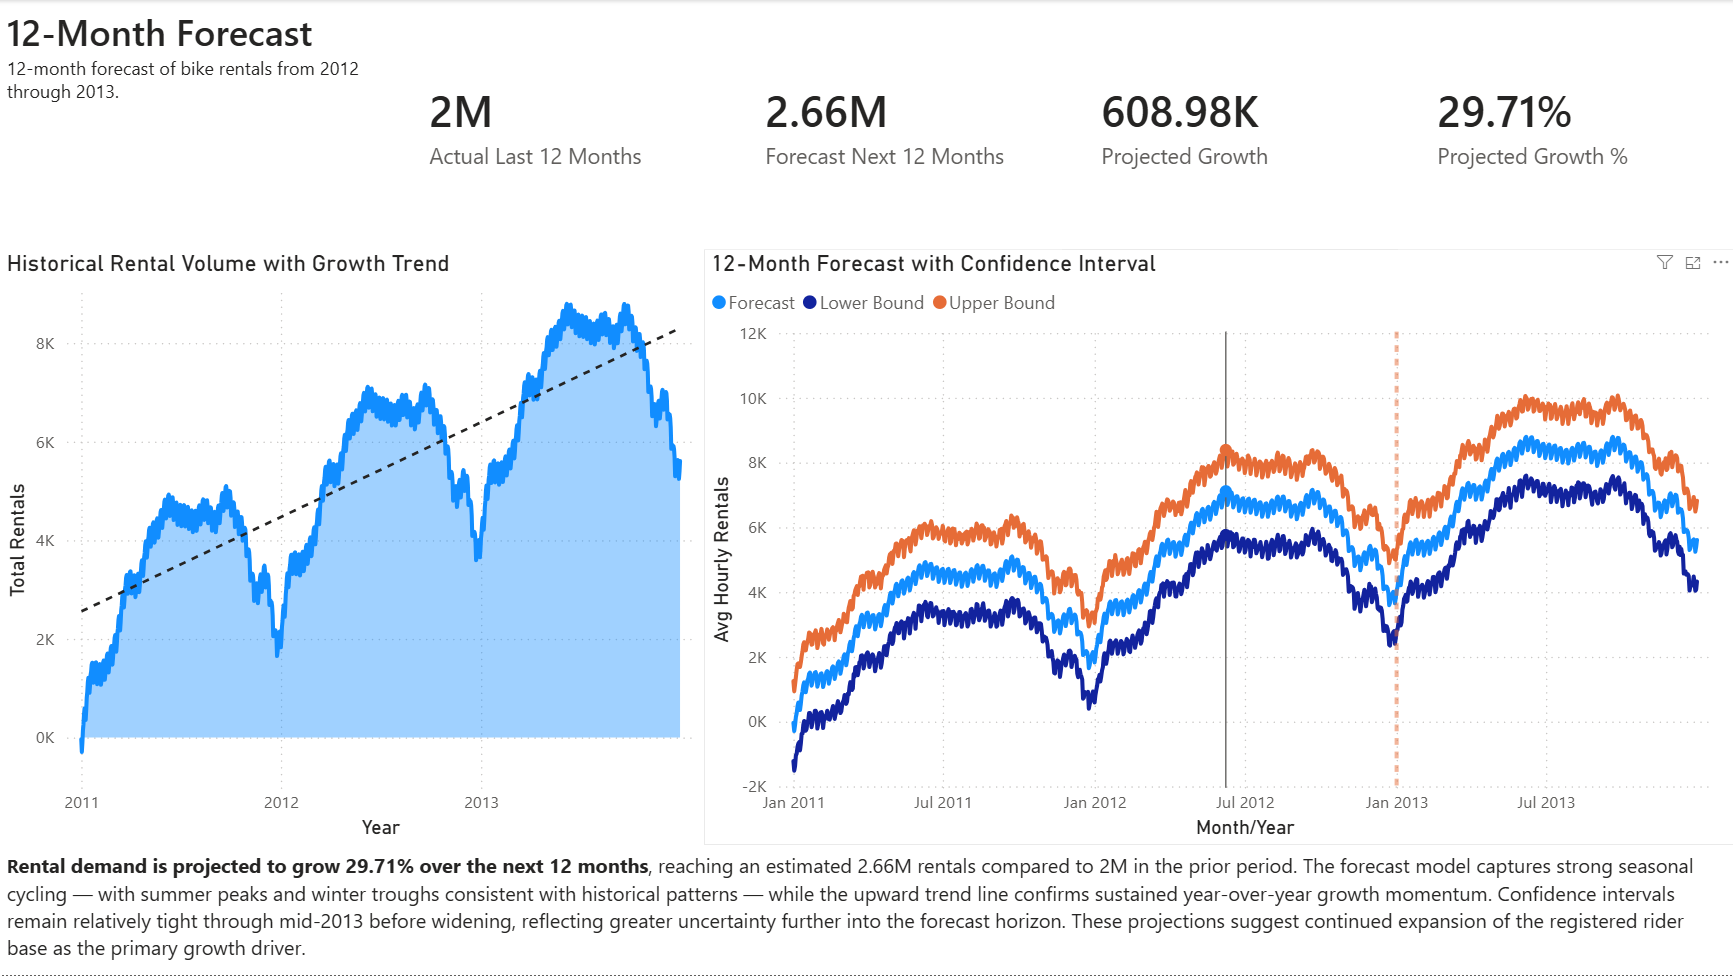

This screenshot's page, from the dashboard's own definition file:
{"tool":"powerbi","page":{"name":"12-Month Forecast","canvas":[1280,720],"ordinal":5},"visuals":[{"type":"lineChart","title":"Historical Rental Volume with Growth Trend","fields":{"Category":["forecast_output.ds"],"Y":["Sum(forecast_output.yhat)"]},"box":[0,184,520,440],"z":0},{"type":"textbox","box":[0,0,280,86],"z":1000},{"type":"cardVisual","fields":{"Data":["forecast_output.Projected Growth"]},"box":[784,0,248,184],"z":2000},{"type":"lineChart","title":"12-Month Forecast with Confidence Interval","fields":{"Category":["forecast_output.ds"],"Y":["Avg(forecast_output.yhat)","Avg(forecast_output.yhat_lower)","Avg(forecast_output.yhat_upper)"]},"box":[520,184,760,440],"z":3000},{"type":"cardVisual","fields":{"Data":["forecast_output.Actual Last 12 Months (test)"]},"box":[288,0,248,184],"z":4000},{"type":"cardVisual","fields":{"Data":["forecast_output.Forecast Next 12 Months"]},"box":[536,0,248,184],"z":5000},{"type":"cardVisual","fields":{"Data":["forecast_output.Projected Growth %"]},"box":[1032,0,248,184],"z":6000},{"type":"textbox","box":[0,624,1280,96],"z":6001}]}

Visuals, with their boxes in screenshot pixels (x1, y1, x2, y2), scaled from the page's 1280x720 canvas onto the 1733x976 screenshot:
"Historical Rental Volume with Growth Trend" lineChart: BBox(0, 249, 704, 846)
textbox: BBox(0, 0, 379, 117)
cardVisual - forecast_output.Projected Growth: BBox(1061, 0, 1397, 249)
"12-Month Forecast with Confidence Interval" lineChart: BBox(704, 249, 1732, 846)
cardVisual - forecast_output.Actual Last 12 Months (test): BBox(390, 0, 726, 249)
cardVisual - forecast_output.Forecast Next 12 Months: BBox(726, 0, 1061, 249)
cardVisual - forecast_output.Projected Growth %: BBox(1397, 0, 1732, 249)
textbox: BBox(0, 846, 1732, 975)
